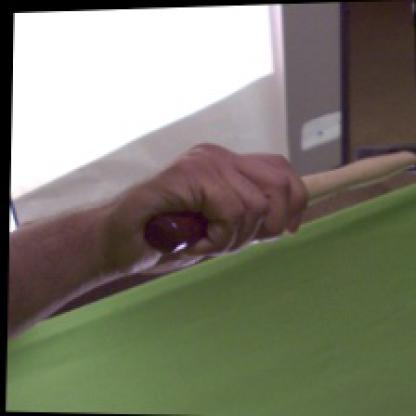Hand: (108, 142, 311, 275)
